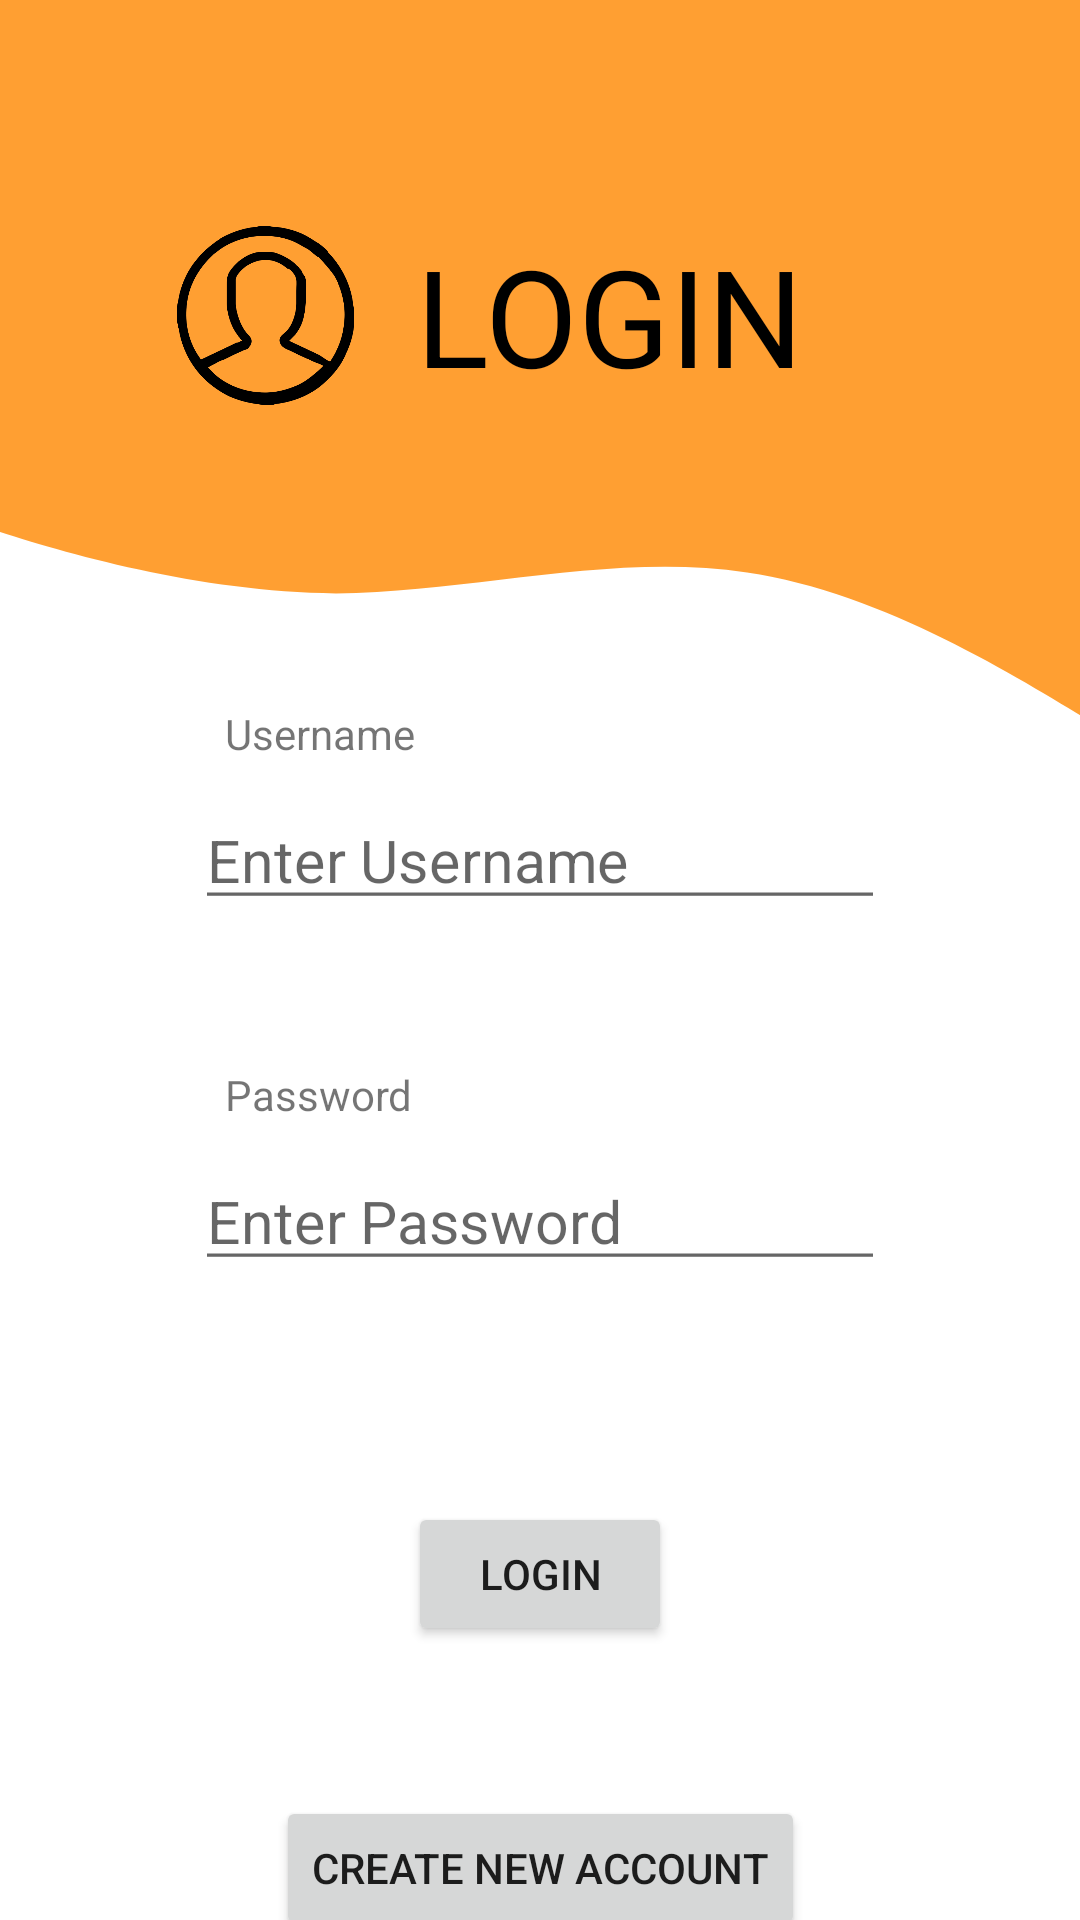

Point at icon controls on the screen. Image size 1080px×1920px, points as [x,y].
personal center: [265,315]
